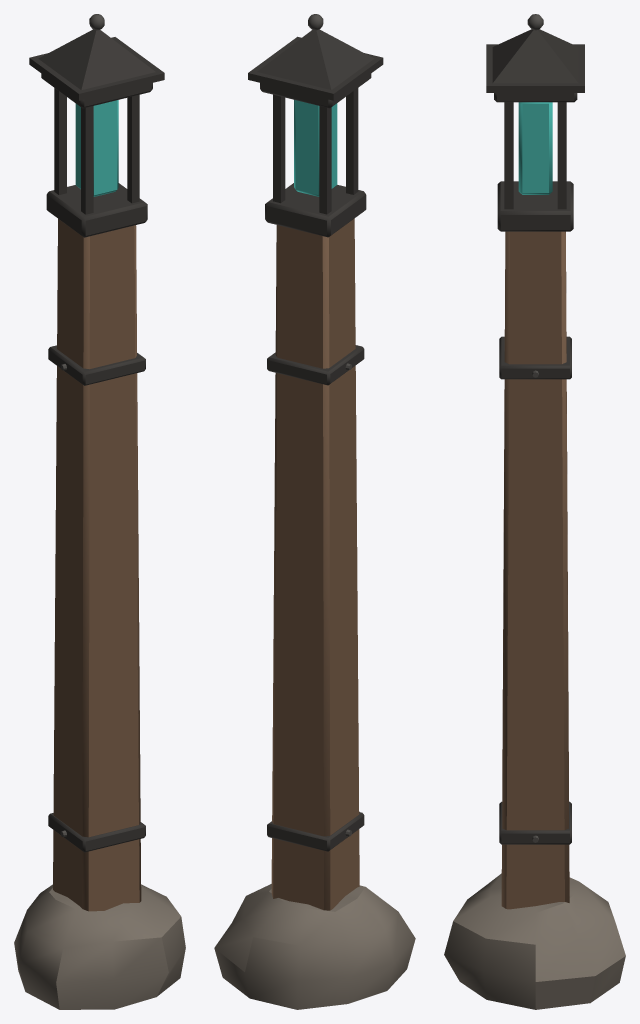
3 renders of one model, left to right at view 1: azimuth 30°, elevation 25°; view 2: azimuth 150°, elevation 25°; view 3: azimuth 270°, elevation 25°, orthographic.
Visible parts, largest first — view 1: L01_post, L01_lens; view 2: L01_post, L01_lens; view 3: L01_post, L01_lens.
Part boxes in pixels (<box>): L01_post: <box>14,14,185,1009</box>; L01_lens: <box>75,100,118,196</box>; L01_post: <box>214,14,415,1009</box>; L01_lens: <box>294,100,337,196</box>; L01_post: <box>444,14,625,1009</box>; L01_lens: <box>518,102,552,194</box>.
Size of the model in its own units: 0.4917 by 2.78 by 0.4785.
